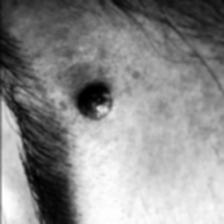Unclassified: (78, 84, 112, 120)
